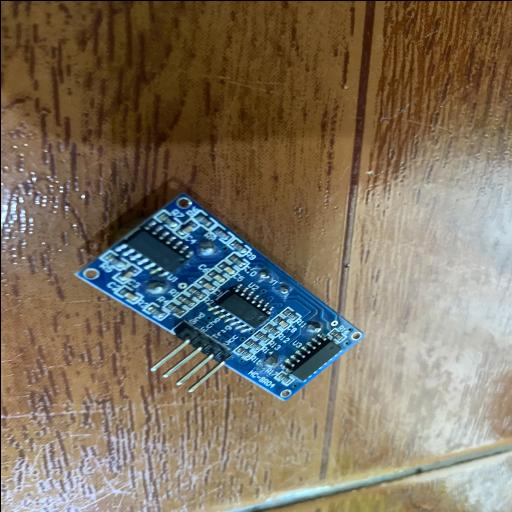Ultrasonic Sensor: (74, 188, 366, 402)
